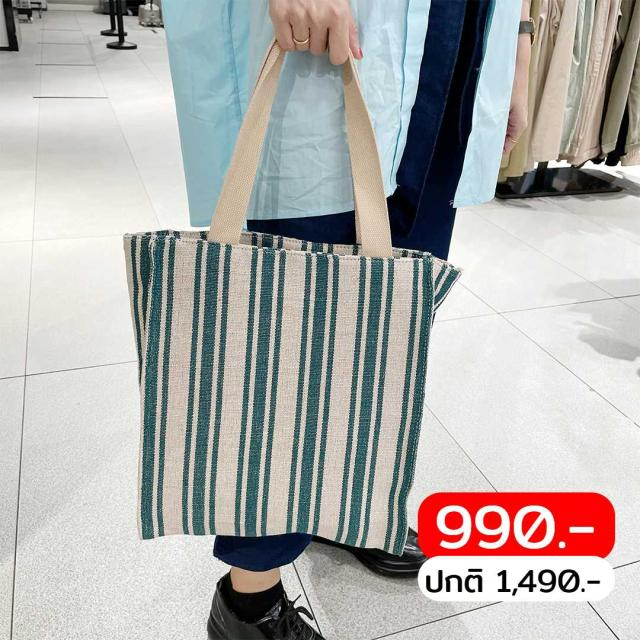handbag: (112, 204, 464, 568)
